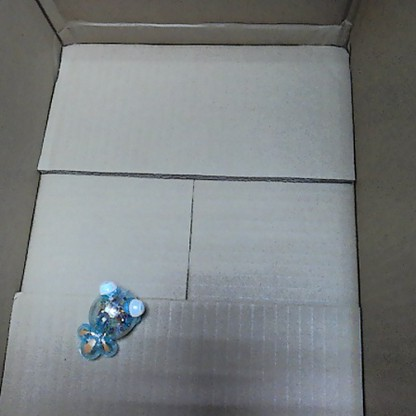bluefish: (78, 276, 146, 361)
